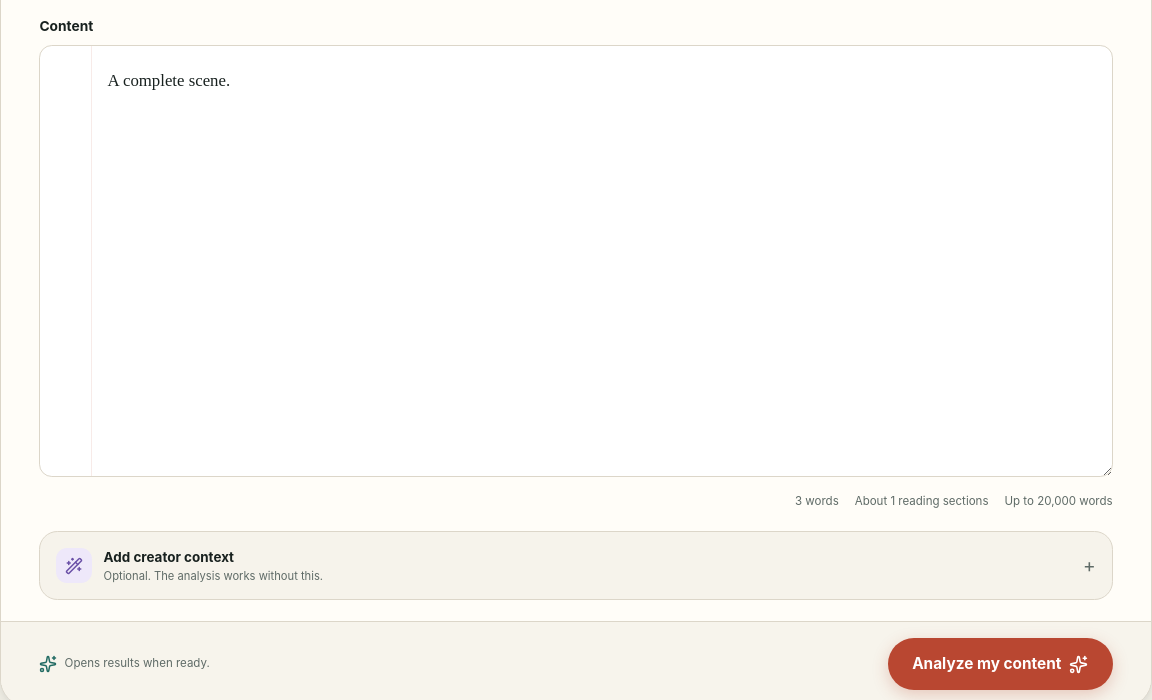
Test: ScriptEditor › uses a safe message for non-error failures
(page scrolled)
Click the button "Analyze my content".
click(1000, 664)  # box x1=888 y1=638 x2=1113 y2=690
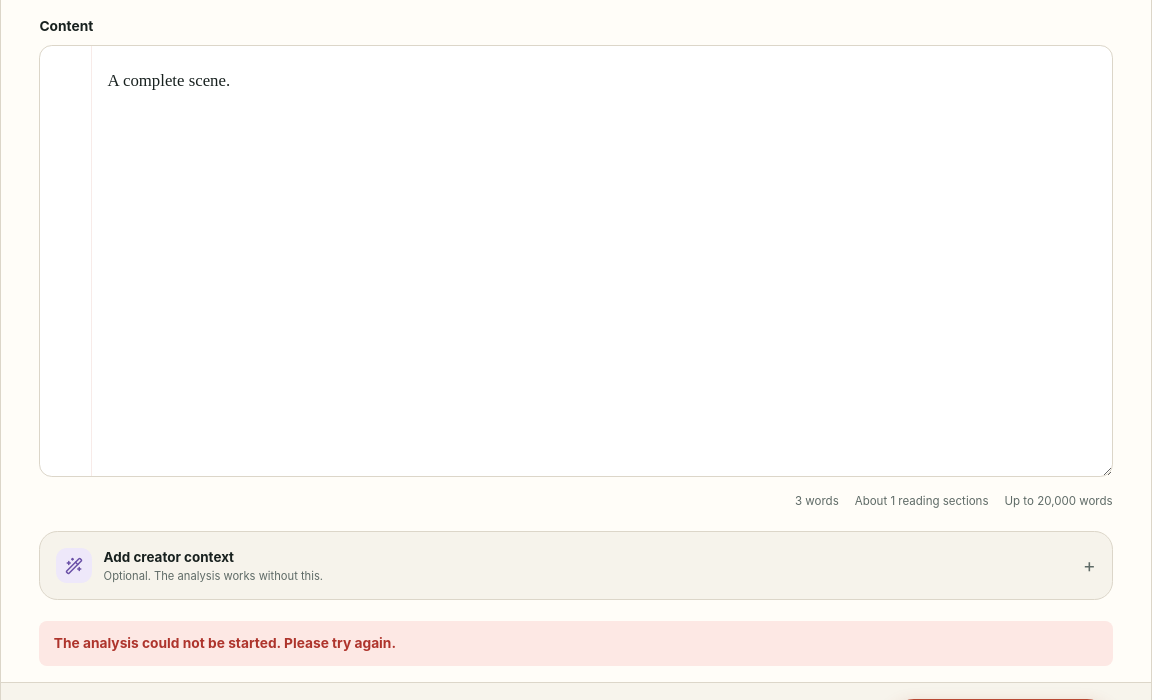
Result: the message reads "The analysis could not be started. Please try again." at x1=54 y1=635 x2=396 y2=651
